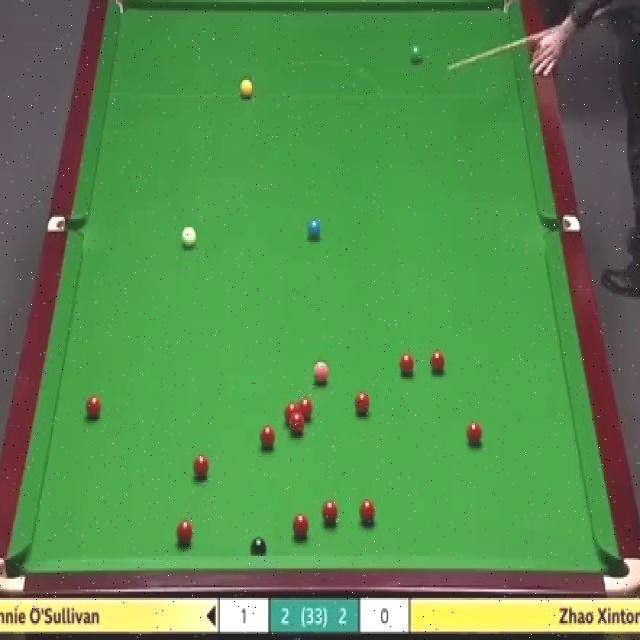black-ball: (250, 537, 267, 556)
blue-ball: (306, 214, 322, 242)
green-ball: (407, 44, 423, 64)
pink-ball: (313, 356, 330, 385)
red-ball: (85, 393, 104, 422), (398, 350, 415, 380), (192, 452, 209, 481), (465, 423, 483, 450), (176, 518, 193, 546), (359, 498, 376, 526), (293, 512, 309, 539), (322, 499, 338, 526), (354, 390, 369, 417), (430, 351, 446, 376), (298, 398, 314, 423), (260, 425, 275, 449), (290, 414, 304, 436), (285, 402, 298, 423)
white-ball: (180, 222, 197, 249)
yellow-ball: (239, 77, 253, 98)
